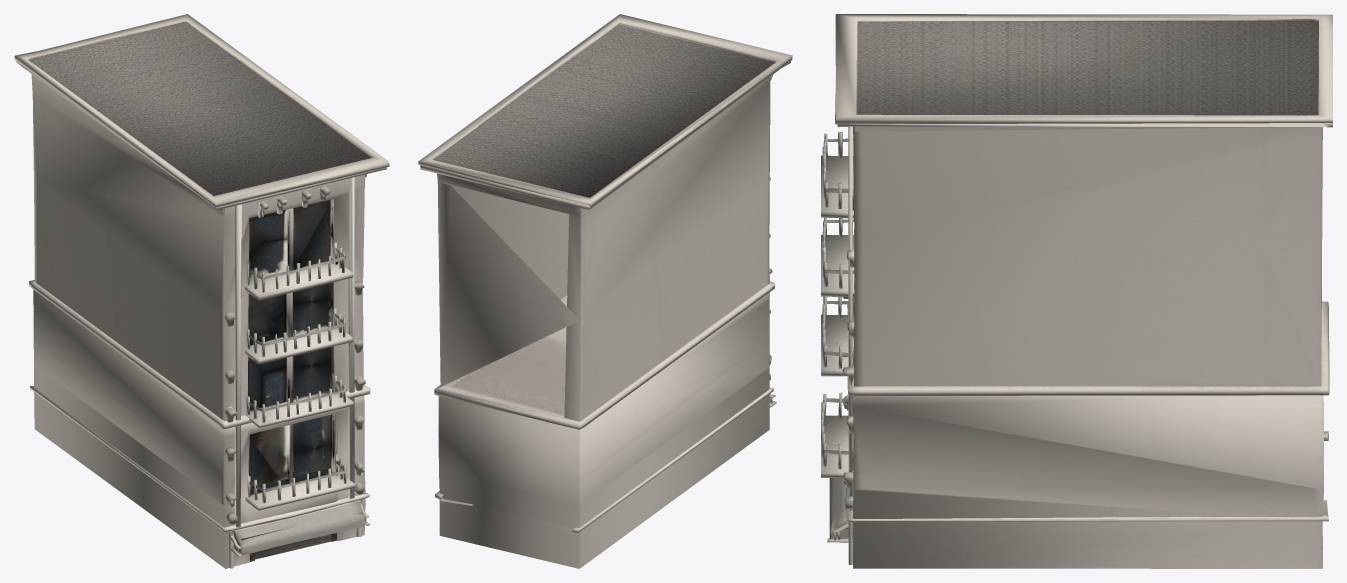
Rendered from meshy-city-townhouse.glb.
The picture shows the model from 3 angles, left to right: view 1: azimuth 30°, elevation 25°; view 2: azimuth 150°, elevation 25°; view 3: azimuth 270°, elevation 25°; orthographic projection. The views are drawn at different scales.
Size of the model in its own units: 0.4817 by 0.9947 by 1.
Materials: 1 (1 with a texture image).
